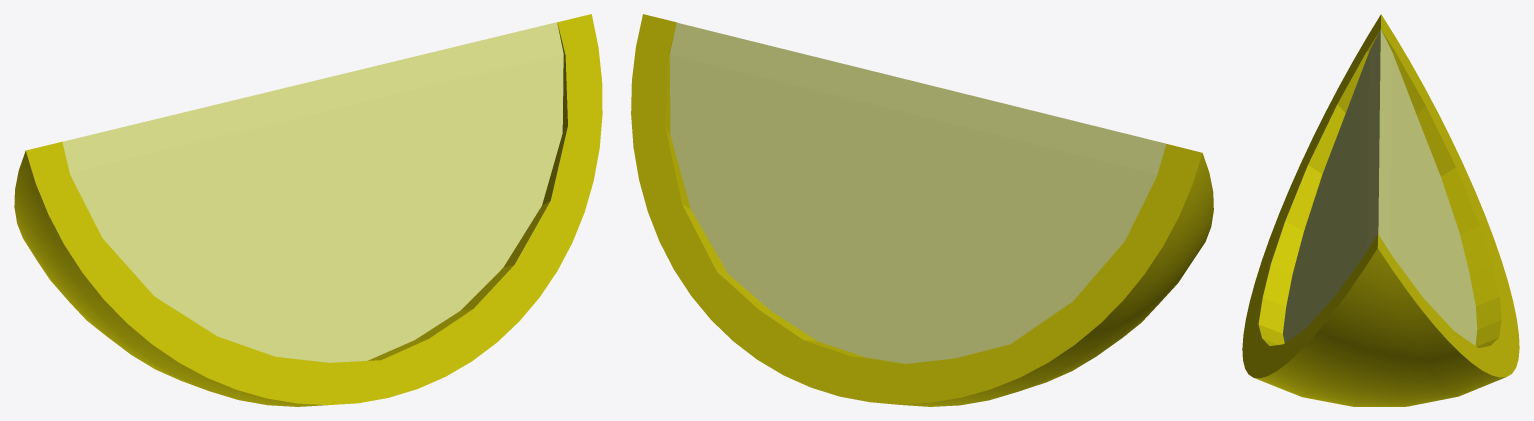
Rendered from lemon_new.fbx.
The picture shows the model from 3 angles, left to right: view 1: azimuth 30°, elevation 25°; view 2: azimuth 150°, elevation 25°; view 3: azimuth 270°, elevation 25°; orthographic projection. The views are drawn at different scales.
Visible parts, largest first — view 1: lemon_new; view 2: lemon_new; view 3: lemon_new.
Part boxes in pixels (bbox=[...]): lemon_new: bbox=[14, 14, 602, 406]; lemon_new: bbox=[631, 14, 1213, 406]; lemon_new: bbox=[1242, 14, 1519, 406].
Size of the model in its own units: 2 by 0.9957 by 1.
